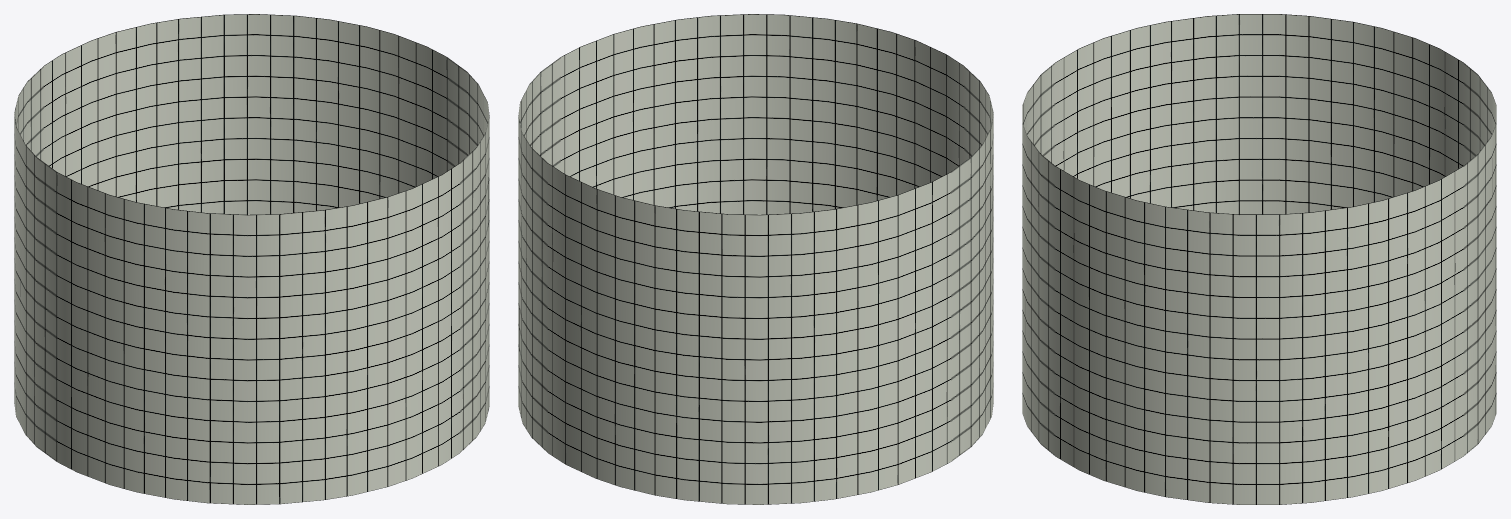
Rendered from StaircaseWell.fbx.
The picture shows the model from 3 angles, left to right: view 1: azimuth 30°, elevation 25°; view 2: azimuth 150°, elevation 25°; view 3: azimuth 270°, elevation 25°; orthographic projection.
Parts seen in each view (by area): view 1: StaircaseWell; view 2: StaircaseWell; view 3: StaircaseWell.
Boxes of the visible parts, x1,y1,x2,y2 form: StaircaseWell: (14, 14, 489, 504); StaircaseWell: (518, 14, 993, 504); StaircaseWell: (1022, 14, 1496, 504).
Bounding box in the file's own units: 592 × 400 × 592.
